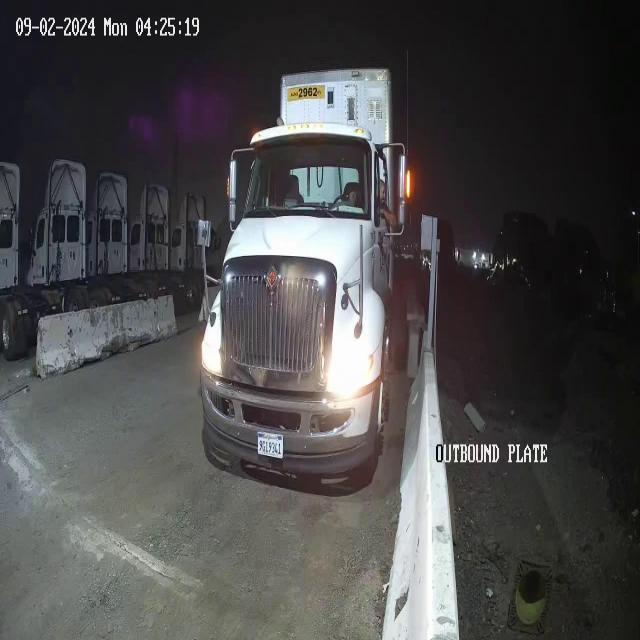TRUCK_OUT: (198, 67, 410, 488)
